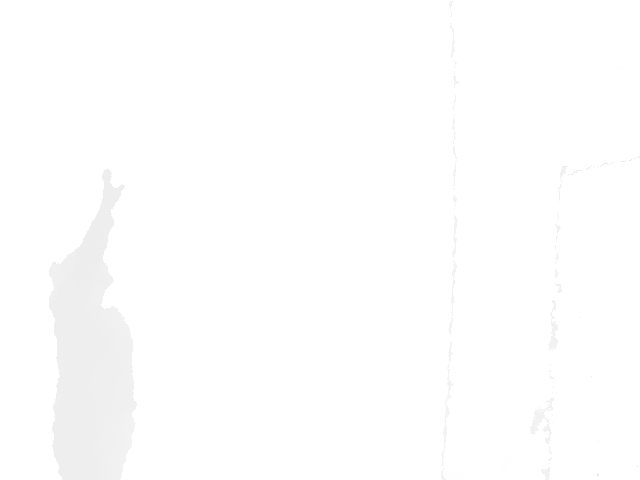hand: (100, 167, 126, 207)
head: (49, 250, 115, 300)
person: (46, 168, 139, 477)
